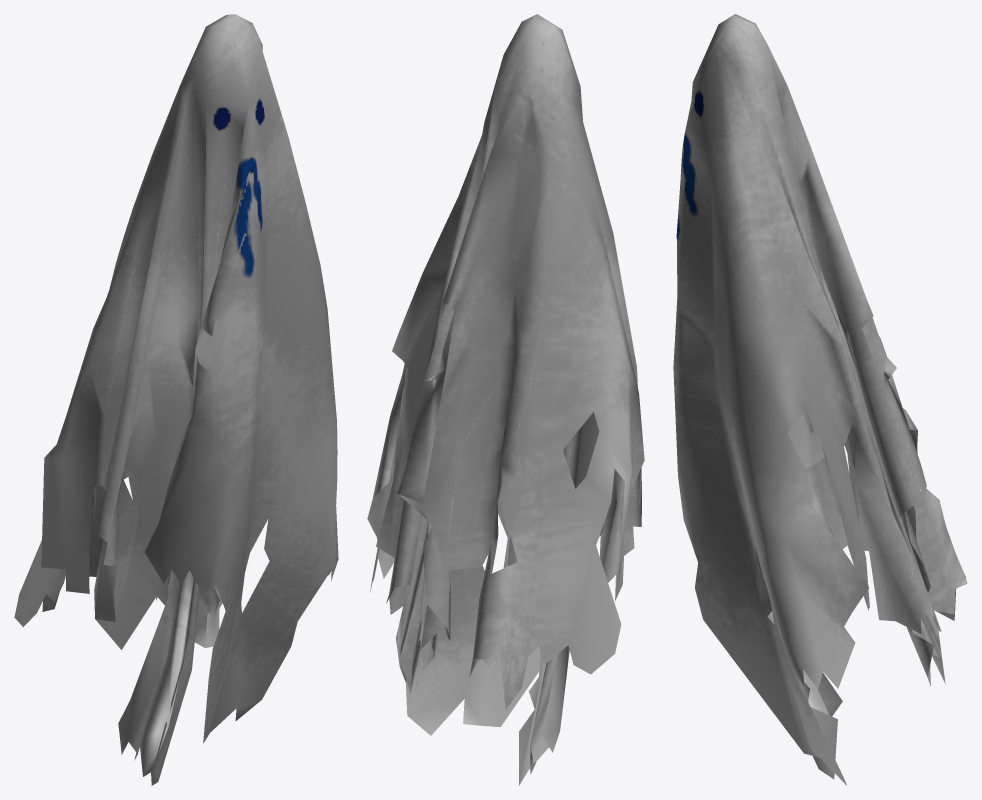
The model's file is Espectro 1.fbx.
3 views of the same model, side by side, from view 1: azimuth 30°, elevation 25°; view 2: azimuth 150°, elevation 25°; view 3: azimuth 270°, elevation 25° (orthographic). The views are drawn at different scales.
Parts seen in each view (by area): view 1: Plane004; view 2: Plane004; view 3: Plane004.
Boxes of the visible parts, <box> form: Plane004: <box>14,14,338,785</box>; Plane004: <box>367,14,644,785</box>; Plane004: <box>673,14,967,785</box>.
Size of the model in its own units: 40.63 by 106 by 36.38.
